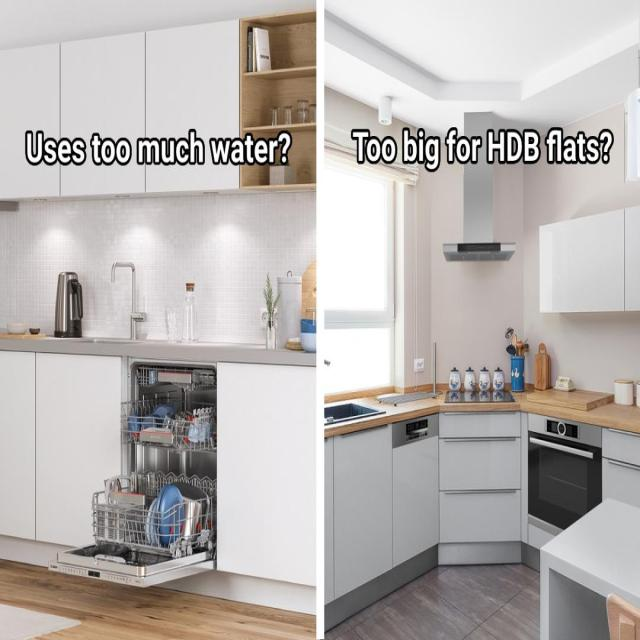dishwasher: (52, 360, 224, 588), (438, 410, 526, 568)
